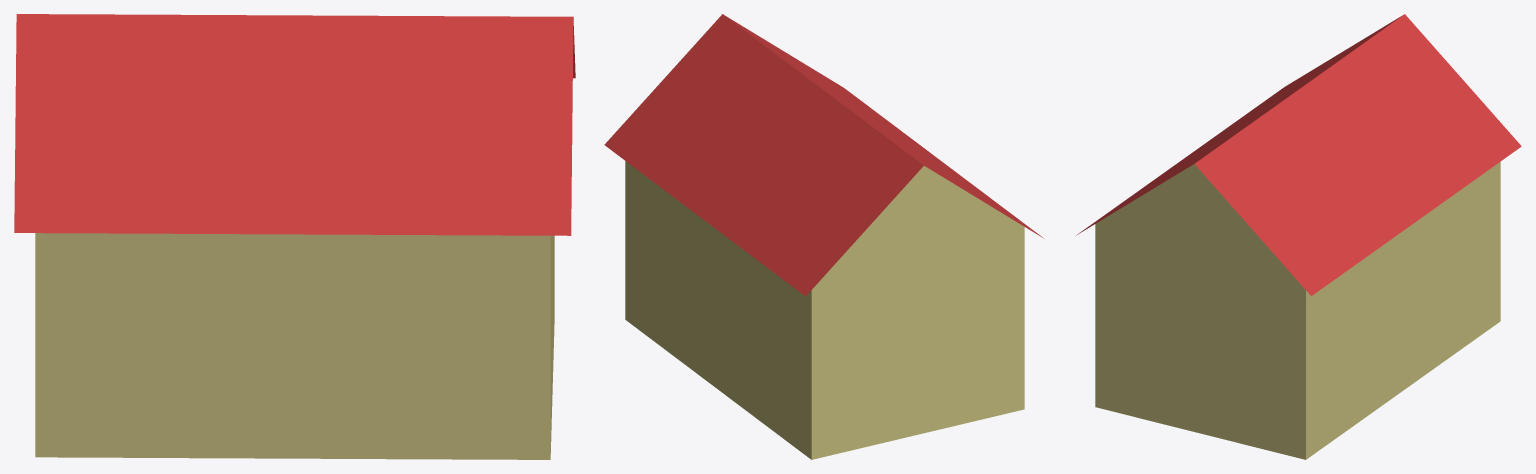
3 views of the same model, side by side, from view 1: azimuth 30°, elevation 25°; view 2: azimuth 150°, elevation 25°; view 3: azimuth 270°, elevation 25° (orthographic). The views are drawn at different scales.
Size of the model in its own units: 24.09 by 21.77 by 14.79.
